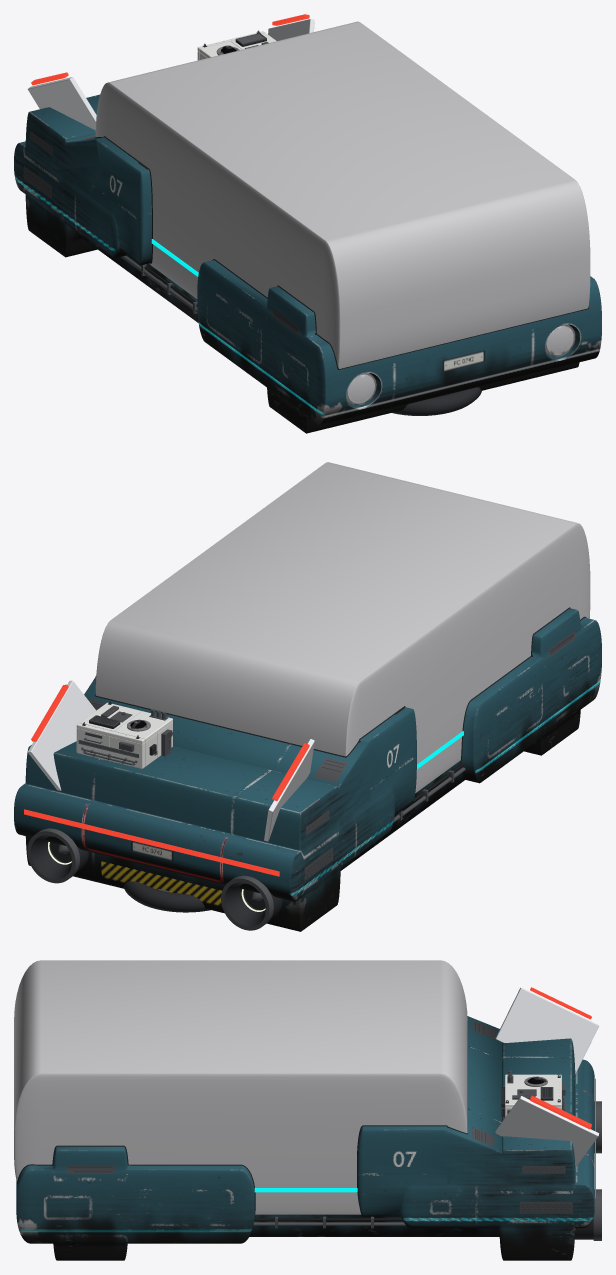
File: flying_car_game.fbx
3 renders of one model, top to bottom at view 1: azimuth 30°, elevation 25°; view 2: azimuth 150°, elevation 25°; view 3: azimuth 270°, elevation 25°, orthographic. The views are drawn at different scales.
Visible parts, largest first — view 1: Canopy, Body, Fin_R, Fan_1_Front, Canopy_Seal, Fin_L, Greeble_Pipes_R, Headlight_L, Headlight_R, Fusion_Generator_Body; view 2: Canopy, Body, Fusion_Generator_Body, Fin_L, Thruster_R, Thruster_L, Fin_R, Light_Tail, Fan_4_Rear, Canopy_Seal, Greeble_Pipes_R; view 3: Canopy, Body, Fin_R, Fin_L, Canopy_Seal, Fusion_Generator_Body, Greeble_Pipes_L, Thruster_L, Light_Side_L.
Boxes of the visible parts, x1=… form: Canopy: x1=95, y1=21, x2=590, y2=368; Body: x1=14, y1=94, x2=601, y2=433; Fin_R: x1=27, y1=72, x2=96, y2=130; Fan_1_Front: x1=392, y1=387, x2=481, y2=415; Canopy_Seal: x1=95, y1=136, x2=588, y2=373; Fin_L: x1=268, y1=14, x2=314, y2=40; Greeble_Pipes_R: x1=121, y1=254, x2=197, y2=313; Headlight_L: x1=546, y1=324, x2=575, y2=356; Headlight_R: x1=347, y1=373, x2=376, y2=405; Fusion_Generator_Body: x1=197, y1=31, x2=276, y2=60; Canopy: x1=95, y1=462, x2=590, y2=793; Body: x1=14, y1=608, x2=601, y2=931; Fusion_Generator_Body: x1=76, y1=702, x2=172, y2=768; Fin_L: x1=28, y1=680, x2=95, y2=790; Thruster_R: x1=221, y1=875, x2=282, y2=930; Thruster_L: x1=27, y1=828, x2=88, y2=883; Fin_R: x1=264, y1=739, x2=314, y2=841; Light_Tail: x1=24, y1=809, x2=279, y2=876; Fan_4_Rear: x1=124, y1=881, x2=210, y2=912; Canopy_Seal: x1=95, y1=607, x2=586, y2=797; Greeble_Pipes_R: x1=393, y1=763, x2=465, y2=822; Canopy: x1=14, y1=960, x2=467, y2=1214; Body: x1=16, y1=1016, x2=594, y2=1260; Fin_R: x1=495, y1=987, x2=598, y2=1073; Fin_L: x1=495, y1=1095, x2=599, y2=1167; Canopy_Seal: x1=16, y1=1021, x2=469, y2=1218; Fusion_Generator_Body: x1=505, y1=1074, x2=561, y2=1117; Greeble_Pipes_L: x1=253, y1=1216, x2=406, y2=1228; Thruster_L: x1=575, y1=1189, x2=601, y2=1240; Light_Side_L: x1=254, y1=1188, x2=357, y2=1192.
Bounding box in the file's own units: 2.51 × 1.75 × 4.91.
23 materials, 1 textured.
